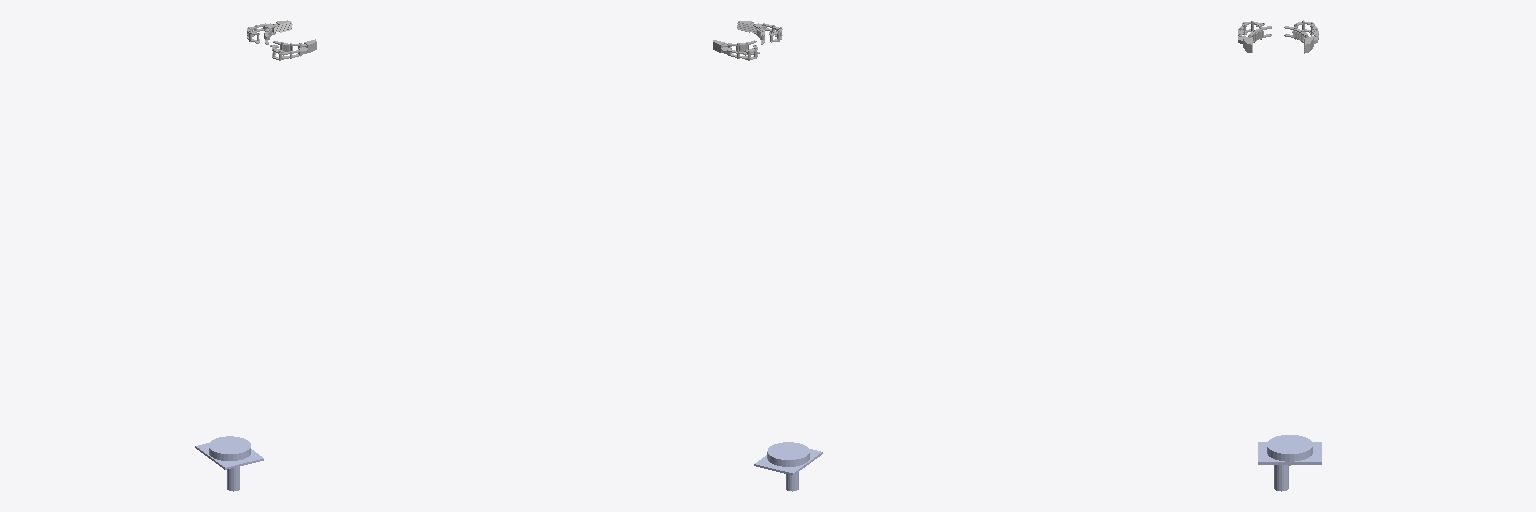
URDF robot description (ArmURDF2):
<?xml version="1.0" encoding="utf-8"?>
<!-- This URDF was automatically created by SolidWorks to URDF Exporter! Originally created by Stephen Brawner ([email redacted]) 
     Commit Version: 1.6.0-4-g7f85cfe  Build Version: 1.6.7995.38578
     For more information, please see http://wiki.ros.org/sw_urdf_exporter -->
<robot
  name="ArmURDF2">
<link name="base_footprint">
    <visual>
        <origin xyz="0 0 0" rpy="0 0 0" />
        <geometry>
            <box size="0.001 0.001 0.001" />
        </geometry>
    </visual>
</link>

<joint name="base_footprint_joint" type="fixed">
    <origin xyz="0 0 0.001" rpy="0 0 0" />
    <parent link="base_footprint"/>
    <child link="link_1" />
</joint>
  <link
    name="link_1">
    <inertial>
      <origin
        xyz="0.000740680413664291 -0.0060596665814546 -0.00186829134457166"
        rpy="0 0 0" />
      <mass
        value="0.493684249227373" />
      <inertia
        ixx="0.00101161422339463"
        ixy="-7.1872341381315E-07"
        ixz="1.00903763951108E-06"
        iyy="0.000843134357709361"
        iyz="-0.000111689338345694"
        izz="0.000991955904517516" />
    </inertial>
    <visual>
      <origin
        xyz="0 0 0"
        rpy="0 0 0" />
      <geometry>
        <mesh
          filename="package://rover_urdf2/meshes/visual/link_1.STL" />
      </geometry>
      <material
        name="">
        <color
          rgba="0.792156862745098 0.819607843137255 0.933333333333333 1" />
      </material>
    </visual>
    <collision>
      <origin
        xyz="0 0 0"
        rpy="0 0 0" />
      <geometry>
        <mesh
          filename="package://rover_urdf2/meshes/visual/link_1.STL" />
      </geometry>
    </collision>
  </link>
  <link
    name="link_2">
    <inertial>
      <origin
        xyz="8.98714572955539E-07 -3.03483072006117E-11 0.073693108956612"
        rpy="0 0 0" />
      <mass
        value="2.03270810207605" />
      <inertia
        ixx="0.00314066233259369"
        ixy="4.59940565187569E-07"
        ixz="1.29489356223766E-08"
        iyy="0.0037626946706696"
        iyz="1.26099583314501E-07"
        izz="0.00193883122368114" />
    </inertial>
    <visual>
      <origin
        xyz="0 0 0"
        rpy="0 0 0" />
      <geometry>
        <mesh
          filename="package://rover_urdf2/meshes/visual/link_2.STL" />
      </geometry>
      <material
        name="">
        <color
          rgba="0.752941176470588 0.752941176470588 0.752941176470588 1" />
      </material>
    </visual>
    <collision>
      <origin
        xyz="0 0 0"
        rpy="0 0 0" />
      <geometry>
        <mesh
          filename="package://rover_urdf2/meshes/visual/link_2.STL" />
      </geometry>
    </collision>
  </link>
  <joint
    name="joint_1"
    type="continuous">
    <origin
      xyz="0.00043867 -0.0012391 0.0277"
      rpy="0 0 0" />
    <parent
      link="link_1" />
    <child
      link="link_2" />
    <axis
      xyz="0 0 1" />
  </joint>
  <link
    name="link_3">
    <inertial>
      <origin
        xyz="0.000254792757662214 8.07662075982818E-06 6.49487179915642E-06"
        rpy="0 0 0" />
      <mass
        value="0.269740707377859" />
      <inertia
        ixx="0.000214265460390054"
        ixy="-4.39953925830063E-08"
        ixz="-3.66512842905517E-08"
        iyy="0.00032147378623812"
        iyz="1.44778886952527E-08"
        izz="0.000434320205403585" />
    </inertial>
    <visual>
      <origin
        xyz="0 0 0"
        rpy="0 0 0" />
      <geometry>
        <mesh
          filename="package://rover_urdf2/meshes/visual/link_3.STL" />
      </geometry>
      <material
        name="">
        <color
          rgba="0.752941176470588 0.752941176470588 0.752941176470588 1" />
      </material>
    </visual>
    <collision>
      <origin
        xyz="0 0 0"
        rpy="0 0 0" />
      <geometry>
        <mesh
          filename="package://rover_urdf2/meshes/visual/link_3.STL" />
      </geometry>
    </collision>
  </link>
  <joint
    name="joint_2"
    type="continuous">
    <origin
      xyz="0 0 0.16208"
      rpy="0 0 0" />
    <parent
      link="link_2" />
    <child
      link="link_3" />
    <axis
      xyz="0 -1 0" />
  </joint>
  <link
    name="link_4">
    <inertial>
      <origin
        xyz="1.01670993837011E-05 0.0124804785072026 0.212254920669629"
        rpy="0 0 0" />
      <mass
        value="1.70044559485604" />
      <inertia
        ixx="0.00777644371499502"
        ixy="-2.16976806750864E-07"
        ixz="-4.45523259064513E-07"
        iyy="0.0085700440835931"
        iyz="-7.04267753223668E-06"
        izz="0.00156632884327015" />
    </inertial>
    <visual>
      <origin
        xyz="0 0 0"
        rpy="0 0 0" />
      <geometry>
        <mesh
          filename="package://rover_urdf2/meshes/visual/link_4.STL" />
      </geometry>
      <material
        name="">
        <color
          rgba="0.752941176470588 0.752941176470588 0.752941176470588 1" />
      </material>
    </visual>
    <collision>
      <origin
        xyz="0 0 0"
        rpy="0 0 0" />
      <geometry>
        <mesh
          filename="package://rover_urdf2/meshes/visual/link_4.STL" />
      </geometry>
    </collision>
  </link>
  <joint
    name="joint_3"
    type="continuous">
    <origin
      xyz="0 0 0"
      rpy="0 0 0" />
    <parent
      link="link_3" />
    <child
      link="link_4" />
    <axis
      xyz="-1 0 0" />
  </joint>
  <link
    name="link_5">
    <inertial>
      <origin
        xyz="-5.93378011709556E-06 0.00327931148849761 0.532700078158248"
        rpy="0 0 0" />
      <mass
        value="1.42493385510865" />
      <inertia
        ixx="0.00891073892599567"
        ixy="-8.38383744269538E-08"
        ixz="-2.24139001996646E-07"
        iyy="0.00911616629538932"
        iyz="1.25388048346523E-07"
        izz="0.000512706182444845" />
    </inertial>
    <visual>
      <origin
        xyz="0 0 0"
        rpy="0 0 0" />
      <geometry>
        <mesh
          filename="package://rover_urdf2/meshes/visual/link_5.STL" />
      </geometry>
      <material
        name="">
        <color
          rgba="0.752941176470588 0.752941176470588 0.752941176470588 1" />
      </material>
    </visual>
    <collision>
      <origin
        xyz="0 0 0"
        rpy="0 0 0" />
      <geometry>
        <mesh
          filename="package://rover_urdf2/meshes/visual/link_5.STL" />
      </geometry>
    </collision>
  </link>
  <joint
    name="joint_4"
    type="continuous">
    <origin
      xyz="0 0 0.42723"
      rpy="0 0 0" />
    <parent
      link="link_4" />
    <child
      link="link_5" />
    <axis
      xyz="0 -1 0" />
  </joint>
  <link
    name="link_6">
    <inertial>
      <origin
        xyz="0.0393623356683294 -0.0335014935816436 0.00654580290720208"
        rpy="0 0 0" />
      <mass
        value="0.623654372976338" />
      <inertia
        ixx="0.000313134125849544"
        ixy="2.0437972442763E-08"
        ixz="5.11035119369461E-08"
        iyy="0.000209633552540219"
        iyz="-6.25529997376223E-07"
        izz="0.000184509117075841" />
    </inertial>
    <visual>
      <origin
        xyz="0 0 0"
        rpy="0 0 0" />
      <geometry>
        <mesh
          filename="package://rover_urdf2/meshes/visual/link_6.STL" />
      </geometry>
      <material
        name="">
        <color
          rgba="0.752941176470588 0.752941176470588 0.752941176470588 1" />
      </material>
    </visual>
    <collision>
      <origin
        xyz="0 0 0"
        rpy="0 0 0" />
      <geometry>
        <mesh
          filename="package://rover_urdf2/meshes/visual/link_6.STL" />
      </geometry>
    </collision>
  </link>
  <joint
    name="joint_5"
    type="continuous">
    <origin
      xyz="0 0 0.63916"
      rpy="0 0 0" />
    <parent
      link="link_5" />
    <child
      link="link_6" />
    <axis
      xyz="0 -1 0" />
  </joint>
  <link
    name="link_7">
    <inertial>
      <origin
        xyz="0.0293765570138762 -0.000794669285106367 -0.0124468924089087"
        rpy="0 0 0" />
      <mass
        value="0.461153044609818" />
      <inertia
        ixx="0.000159154139869059"
        ixy="4.22527018368466E-07"
        ixz="9.87307555140405E-08"
        iyy="5.48287668179541E-05"
        iyz="6.16260342268939E-08"
        izz="0.000180439065215029" />
    </inertial>
    <visual>
      <origin
        xyz="0 0 0"
        rpy="0 0 0" />
      <geometry>
        <mesh
          filename="package://rover_urdf2/meshes/visual/link_7.STL" />
      </geometry>
      <material
        name="">
        <color
          rgba="0.752941176470588 0.752941176470588 0.752941176470588 1" />
      </material>
    </visual>
    <collision>
      <origin
        xyz="0 0 0"
        rpy="0 0 0" />
      <geometry>
        <mesh
          filename="package://rover_urdf2/meshes/visual/link_7.STL" />
      </geometry>
    </collision>
  </link>
  <joint
    name="joint_6"
    type="continuous">
    <origin
      xyz="0.061609 -0.030175 0"
      rpy="0 0 0" />
    <parent
      link="link_6" />
    <child
      link="link_7" />
    <axis
      xyz="-1 0 0" />
  </joint>
  <link
    name="link_8_1">
    <inertial>
      <origin
        xyz="-0.00492659920751776 0.0267315083777654 0.00212900100943791"
        rpy="0 0 0" />
      <mass
        value="0.0238621153796169" />
      <inertia
        ixx="3.75714075146173E-06"
        ixy="-9.11915167755815E-08"
        ixz="5.26110661636923E-12"
        iyy="1.1992783066467E-06"
        iyz="-3.13349199633427E-12"
        izz="3.80768990237763E-06" />
    </inertial>
    <visual>
      <origin
        xyz="0 0 0"
        rpy="0 0 0" />
      <geometry>
        <mesh
          filename="package://rover_urdf2/meshes/visual/link_8_1.STL" />
      </geometry>
      <material
        name="">
        <color
          rgba="0.752941176470588 0.752941176470588 0.752941176470588 1" />
      </material>
    </visual>
    <collision>
      <origin
        xyz="0 0 0"
        rpy="0 0 0" />
      <geometry>
        <mesh
          filename="package://rover_urdf2/meshes/visual/link_8_1.STL" />
      </geometry>
    </collision>
  </link>
  <joint
    name="joint_7_1"
    type="continuous">
    <origin
      xyz="0.038716 0.046 0"
      rpy="0 0 0" />
    <parent
      link="link_7" />
    <child
      link="link_8_1" />
    <axis
      xyz="0 0 -1" />
  </joint>
  <link
    name="link_9_1">
    <inertial>
      <origin
        xyz="0.0338344401539635 0.00845947578212647 0.00275240624278728"
        rpy="0 0 0" />
      <mass
        value="0.014746978667211" />
      <inertia
        ixx="3.78885191446192E-07"
        ixy="-6.4729084178428E-07"
        ixz="-2.70910300302167E-12"
        iyy="4.12019580977915E-06"
        iyz="4.79007246811342E-12"
        izz="4.2336163481287E-06" />
    </inertial>
    <visual>
      <origin
        xyz="0 0 0"
        rpy="0 0 0" />
      <geometry>
        <mesh
          filename="package://rover_urdf2/meshes/visual/link_9_1.STL" />
      </geometry>
      <material
        name="">
        <color
          rgba="0.752941176470588 0.752941176470588 0.752941176470588 1" />
      </material>
    </visual>
    <collision>
      <origin
        xyz="0 0 0"
        rpy="0 0 0" />
      <geometry>
        <mesh
          filename="package://rover_urdf2/meshes/visual/link_9_1.STL" />
      </geometry>
    </collision>
  </link>
  <joint
    name="joint_9_1"
    type="continuous">
    <origin
      xyz="-0.0054338 0.042373 0"
      rpy="0 0 0" />
    <parent
      link="link_8_1" />
    <child
      link="link_9_1" />
    <axis
      xyz="0 0 -1" />
  </joint>
  <link
    name="link_10_1">
    <inertial>
      <origin
        xyz="0.138815376411363 0.0364268084787191 -0.00884553818213996"
        rpy="0 0 0" />
      <mass
        value="0.0486465780888588" />
      <inertia
        ixx="5.4365128105541E-06"
        ixy="3.906479827633E-06"
        ixz="2.07001155035716E-09"
        iyy="1.69247091351984E-05"
        iyz="-6.34696084335324E-09"
        izz="1.86713050813076E-05" />
    </inertial>
    <visual>
      <origin
        xyz="0 0 0"
        rpy="0 0 0" />
      <geometry>
        <mesh
          filename="package://rover_urdf2/meshes/visual/link_10_1.STL" />
      </geometry>
      <material
        name="">
        <color
          rgba="0.752941176470588 0.752941176470588 0.752941176470588 1" />
      </material>
    </visual>
    <collision>
      <origin
        xyz="0 0 0"
        rpy="0 0 0" />
      <geometry>
        <mesh
          filename="package://rover_urdf2/meshes/visual/link_10_1.STL" />
      </geometry>
    </collision>
  </link>
  <joint
    name="joint_10_1"
    type="fixed">
    <origin
      xyz="-0.045493 -0.04498 0.011585"
      rpy="0 0 0" />
    <parent
      link="link_9_1" />
    <child
      link="link_10_1" />
    <axis
      xyz="0 0 0" />
  </joint>
  <link
    name="link_11_1">
    <inertial>
      <origin
        xyz="0.0249155586839006 0.0334731174074486 0.00287524795608252"
        rpy="0 0 0" />
      <mass
        value="0.0330161267446318" />
      <inertia
        ixx="5.31229118243624E-06"
        ixy="-4.08756963714987E-06"
        ixz="-2.09311304120215E-11"
        iyy="5.52216840597204E-06"
        iyz="-1.03636653740529E-11"
        izz="9.17010465946354E-06" />
    </inertial>
    <visual>
      <origin
        xyz="0 0 0"
        rpy="0 0 0" />
      <geometry>
        <mesh
          filename="package://rover_urdf2/meshes/visual/link_11_1.STL" />
      </geometry>
      <material
        name="">
        <color
          rgba="0.752941176470588 0.752941176470588 0.752941176470588 1" />
      </material>
    </visual>
    <collision>
      <origin
        xyz="0 0 0"
        rpy="0 0 0" />
      <geometry>
        <mesh
          filename="package://rover_urdf2/meshes/visual/link_11_1.STL" />
      </geometry>
    </collision>
  </link>
  <joint
    name="joint_8_1"
    type="continuous">
    <origin
      xyz="0.053716 0.021 0"
      rpy="0 0 0" />
    <parent
      link="link_7" />
    <child
      link="link_11_1" />
    <axis
      xyz="0 0 -1" />
  </joint>
  <link
    name="link_8_2">
    <inertial>
      <origin
        xyz="-0.00492659920904572 -0.0267315083777638 0.00387099899100085"
        rpy="0 0 0" />
      <mass
        value="0.0238621153796159" />
      <inertia
        ixx="3.75714075146625E-06"
        ixy="9.11915167091455E-08"
        ixz="-5.26110667298844E-12"
        iyy="1.19927830664177E-06"
        iyz="-3.13349188892875E-12"
        izz="3.80768990237764E-06" />
    </inertial>
    <visual>
      <origin
        xyz="0 0 0"
        rpy="0 0 0" />
      <geometry>
        <mesh
          filename="package://rover_urdf2/meshes/visual/link_8_2.STL" />
      </geometry>
      <material
        name="">
        <color
          rgba="0.752941176470588 0.752941176470588 0.752941176470588 1" />
      </material>
    </visual>
    <collision>
      <origin
        xyz="0 0 0"
        rpy="0 0 0" />
      <geometry>
        <mesh
          filename="package://rover_urdf2/meshes/visual/link_8_2.STL" />
      </geometry>
    </collision>
  </link>
  <joint
    name="joint_7_2"
    type="continuous">
    <origin
      xyz="0.038716 -0.046 0"
      rpy="0 0 0" />
    <parent
      link="link_7" />
    <child
      link="link_8_2" />
    <axis
      xyz="0 0 1" />
  </joint>
  <link
    name="link_9_2">
    <inertial>
      <origin
        xyz="0.0338344401527394 -0.00845947578244774 0.00324759375767258"
        rpy="0 0 0" />
      <mass
        value="0.0147469786672112" />
      <inertia
        ixx="3.78885191454925E-07"
        ixy="6.47290841809503E-07"
        ixz="2.70909847986378E-12"
        iyy="4.12019580977044E-06"
        iyz="4.79007322679833E-12"
        izz="4.23361634812872E-06" />
    </inertial>
    <visual>
      <origin
        xyz="0 0 0"
        rpy="0 0 0" />
      <geometry>
        <mesh
          filename="package://rover_urdf2/meshes/visual/link_9_2.STL" />
      </geometry>
      <material
        name="">
        <color
          rgba="0.752941176470588 0.752941176470588 0.752941176470588 1" />
      </material>
    </visual>
    <collision>
      <origin
        xyz="0 0 0"
        rpy="0 0 0" />
      <geometry>
        <mesh
          filename="package://rover_urdf2/meshes/visual/link_9_2.STL" />
      </geometry>
    </collision>
  </link>
  <joint
    name="joint_9_2"
    type="continuous">
    <origin
      xyz="-0.0054338 -0.042373 0"
      rpy="0 0 0" />
    <parent
      link="link_8_2" />
    <child
      link="link_9_2" />
    <axis
      xyz="0 0 1" />
  </joint>
  <link
    name="link_10_2">
    <inertial>
      <origin
        xyz="0.138815376411217 -0.0364268084814933 0.00884553818281142"
        rpy="0 0 0" />
      <mass
        value="0.0486465780888586" />
      <inertia
        ixx="5.43651281037645E-06"
        ixy="-3.90647982737179E-06"
        ixz="-2.07001158159274E-09"
        iyy="1.6924709135376E-05"
        iyz="-6.34696085248978E-09"
        izz="1.86713050813076E-05" />
    </inertial>
    <visual>
      <origin
        xyz="0 0 0"
        rpy="0 0 0" />
      <geometry>
        <mesh
          filename="package://rover_urdf2/meshes/visual/link_10_2.STL" />
      </geometry>
      <material
        name="">
        <color
          rgba="0.752941176470588 0.752941176470588 0.752941176470588 1" />
      </material>
    </visual>
    <collision>
      <origin
        xyz="0 0 0"
        rpy="0 0 0" />
      <geometry>
        <mesh
          filename="package://rover_urdf2/meshes/visual/link_10_2.STL" />
      </geometry>
    </collision>
  </link>
  <joint
    name="joint_10_2"
    type="fixed">
    <origin
      xyz="-0.045493 0.04498 -0.0060848"
      rpy="0 0 0" />
    <parent
      link="link_9_2" />
    <child
      link="link_10_2" />
    <axis
      xyz="0 0 0" />
  </joint>
  <link
    name="link11_2">
    <inertial>
      <origin
        xyz="0.0249155586837917 -0.0334731174077843 0.00312475204473617"
        rpy="0 0 0" />
      <mass
        value="0.0330161267446324" />
      <inertia
        ixx="5.31229118252627E-06"
        ixy="4.08756963715209E-06"
        ixz="2.0931121459721E-11"
        iyy="5.52216840588193E-06"
        iyz="-1.03636557858027E-11"
        izz="9.17010465946352E-06" />
    </inertial>
    <visual>
      <origin
        xyz="0 0 0"
        rpy="0 0 0" />
      <geometry>
        <mesh
          filename="package://rover_urdf2/meshes/visual/link11_2.STL" />
      </geometry>
      <material
        name="">
        <color
          rgba="0.752941176470588 0.752941176470588 0.752941176470588 1" />
      </material>
    </visual>
    <collision>
      <origin
        xyz="0 0 0"
        rpy="0 0 0" />
      <geometry>
        <mesh
          filename="package://rover_urdf2/meshes/visual/link11_2.STL" />
      </geometry>
    </collision>
  </link>
  <joint
    name="joint_8_2"
    type="continuous">
    <origin
      xyz="0.053716 -0.021 0"
      rpy="0 0 0" />
    <parent
      link="link_7" />
    <child
      link="link11_2" />
    <axis
      xyz="0 0 1" />
  </joint>
</robot>

--- What the picture shows (computed from the rendered views, not written in the file) ---
3 views of the same robot in one strip: view 1: azimuth 30°, elevation 25°; view 2: azimuth 150°, elevation 25°; view 3: azimuth 270°, elevation 25° (orthographic).
Robot: ArmURDF2 — 16 links, 15 joints (12 continuous, 3 fixed); root link base_footprint; default pose: every joint at zero.
Visible links, largest first — view 1: link_1; view 2: link_1; view 3: link_1.
Link boxes in pixels (x1,y1,x2,y2): link_1: (195,436,263,491); link_1: (754,442,822,491); link_1: (1258,435,1321,491).
Bounding box of the posed robot: 0.2876 × 0.2182 × 1.37 m (x, y, z).
Meshes: 15 distinct files referenced, 9 mesh visuals loaded (9 binary STL); not drawn: 6 (reference not matched to a file when rendering).
